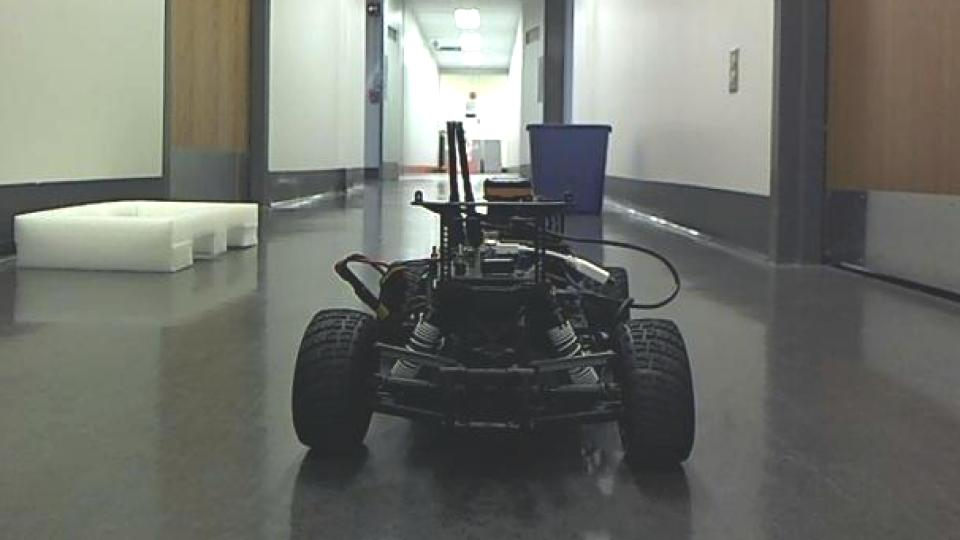car: (288, 119, 700, 473)
